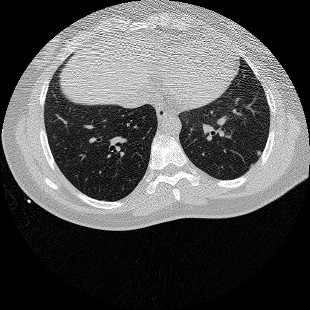nodule: (258, 152, 262, 156)
